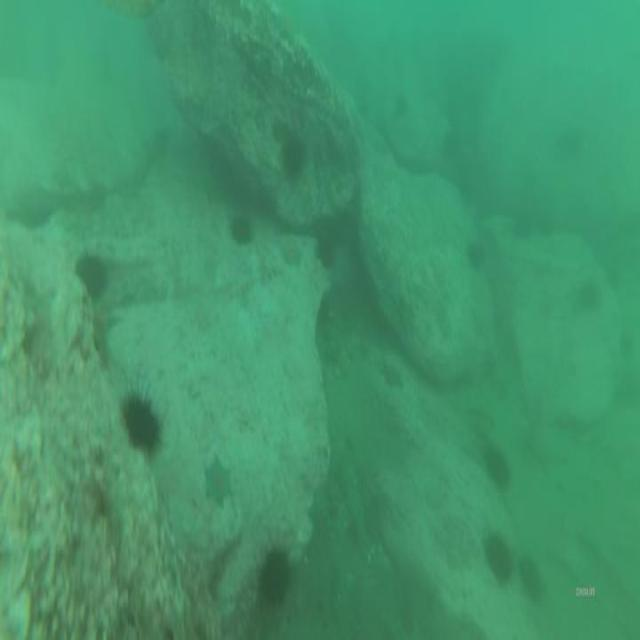echinus: (124, 397, 156, 450), (483, 534, 513, 580), (265, 547, 290, 594), (80, 258, 106, 294), (281, 136, 304, 175), (578, 278, 602, 313), (486, 448, 508, 484), (315, 232, 337, 267), (510, 210, 532, 242), (522, 556, 542, 591), (466, 237, 484, 273), (231, 216, 251, 242)
starfish: (205, 463, 231, 504), (381, 356, 401, 386), (281, 240, 303, 267)
